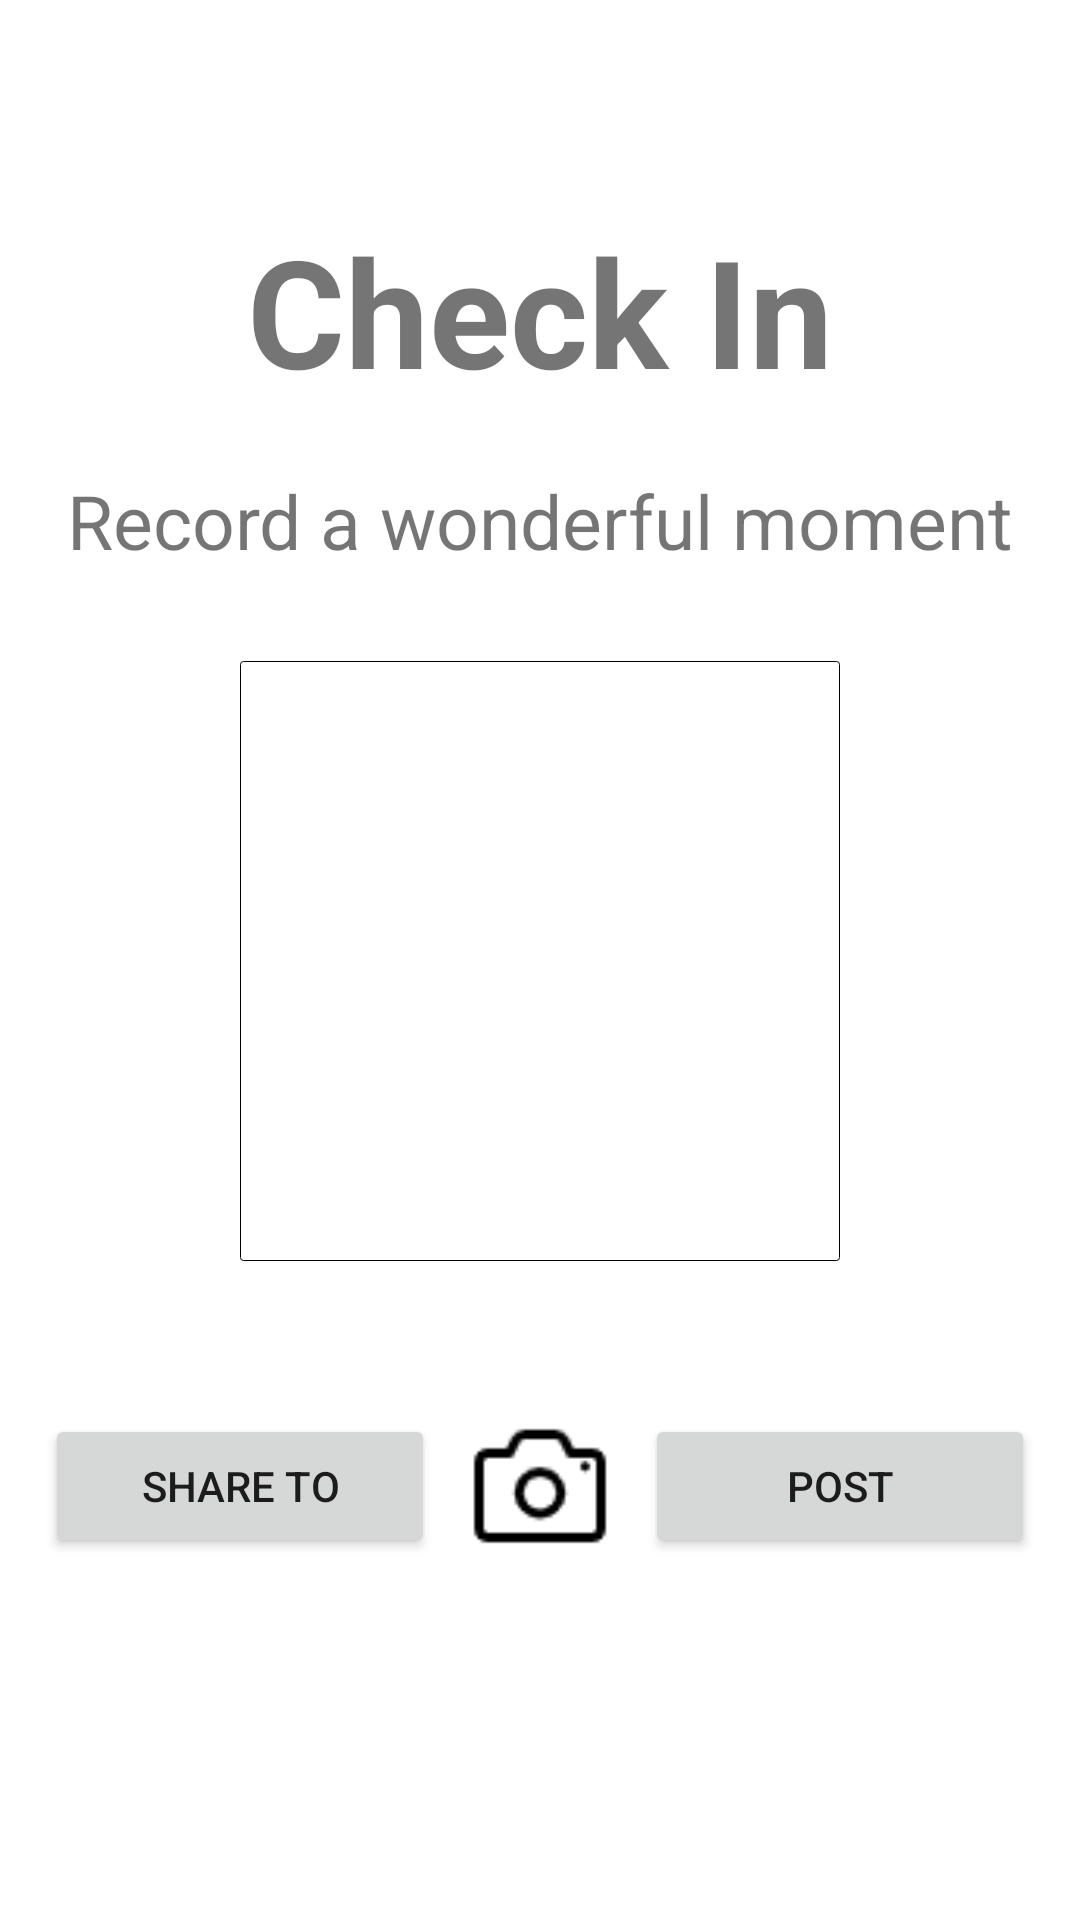

Where to tap for icons on this 1080w x 1920h app screen, as (x=x, y=y):
camera: (x=540, y=1486)
